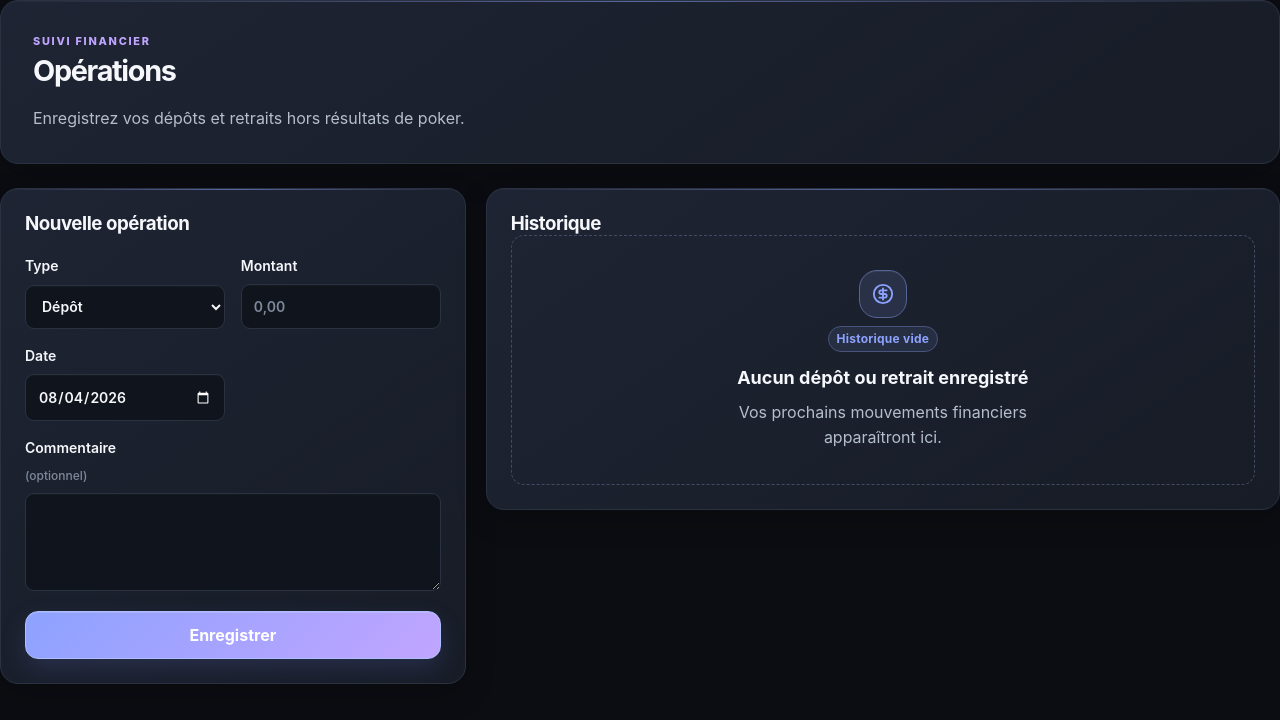
Scenario: OperationsPage › saves a valid deposit in cents and refreshes the shared data
Type "12,50" into the field labelled "Montant" at (341, 307), box [241,284,441,329]
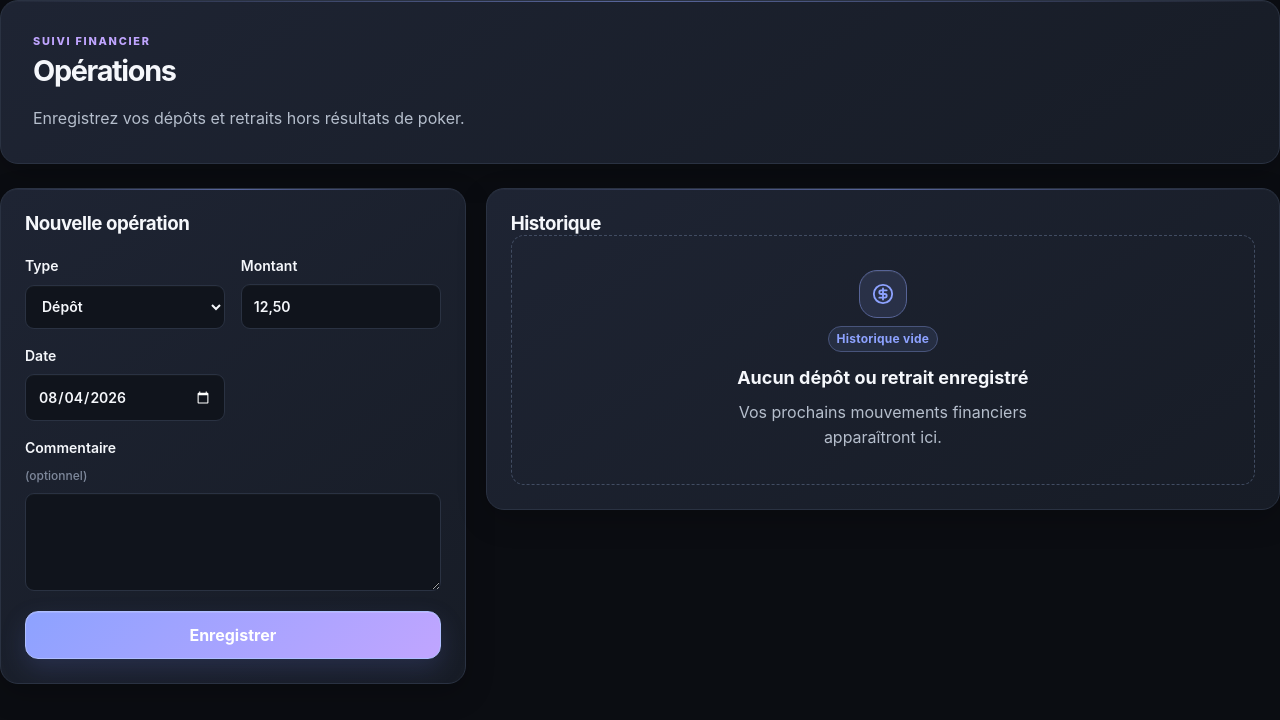
Type "Recharge" into the text box labelled "Commentaire (optionnel)" at (233, 542), box [25,493,441,591]
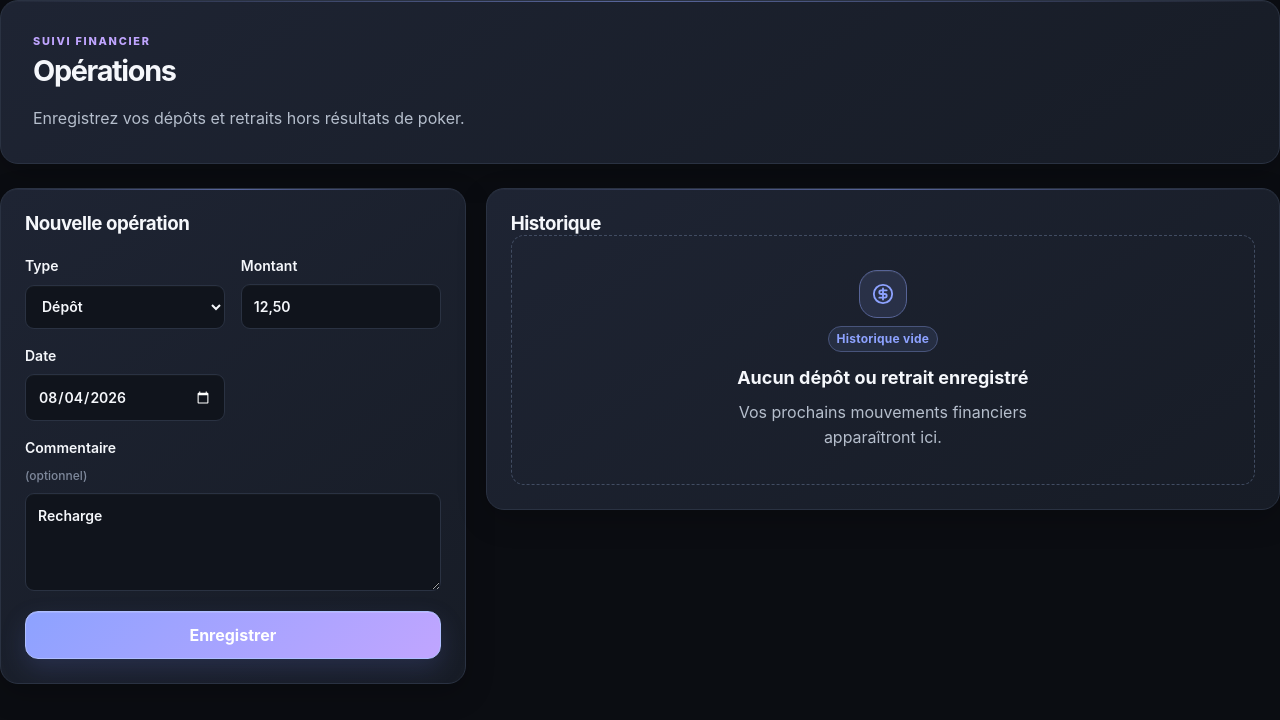
Click the button "Enregistrer" at (233, 635), box [25,611,441,659]
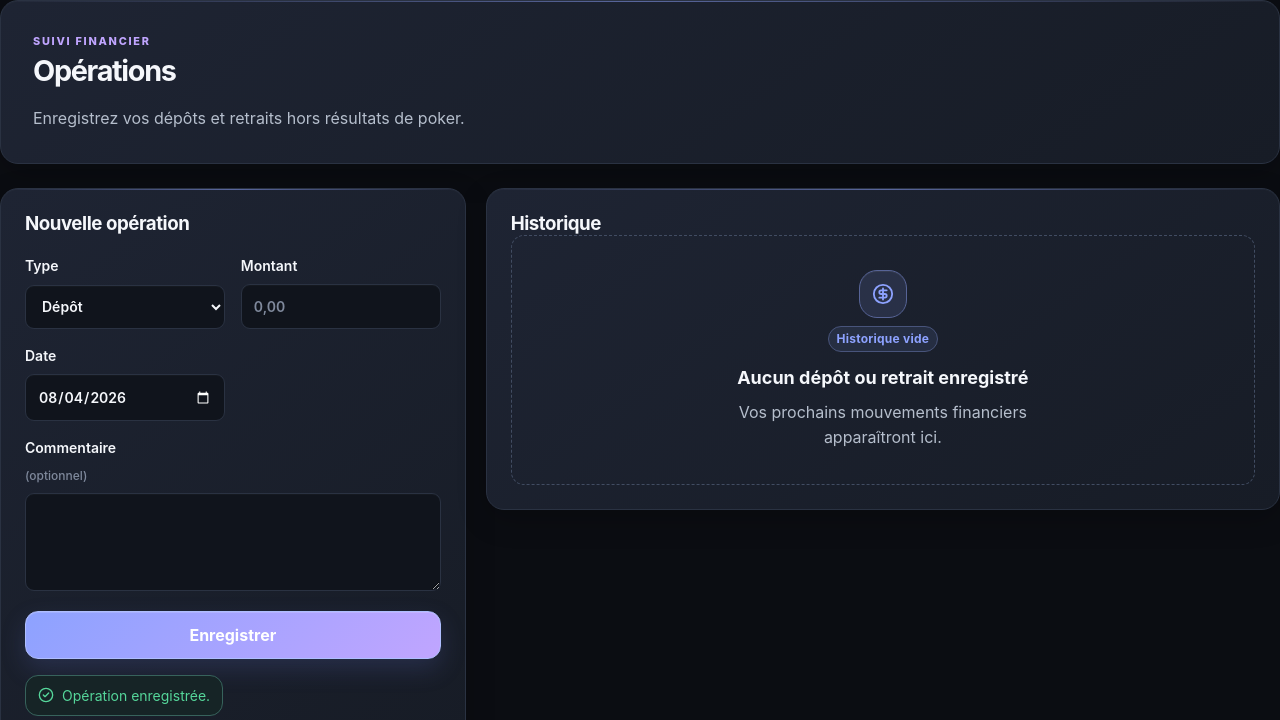
Expected: the message reads "Opération enregistrée.", [62,687,210,704]
Expected: the field labelled "Montant" is empty, [241,284,441,329]
